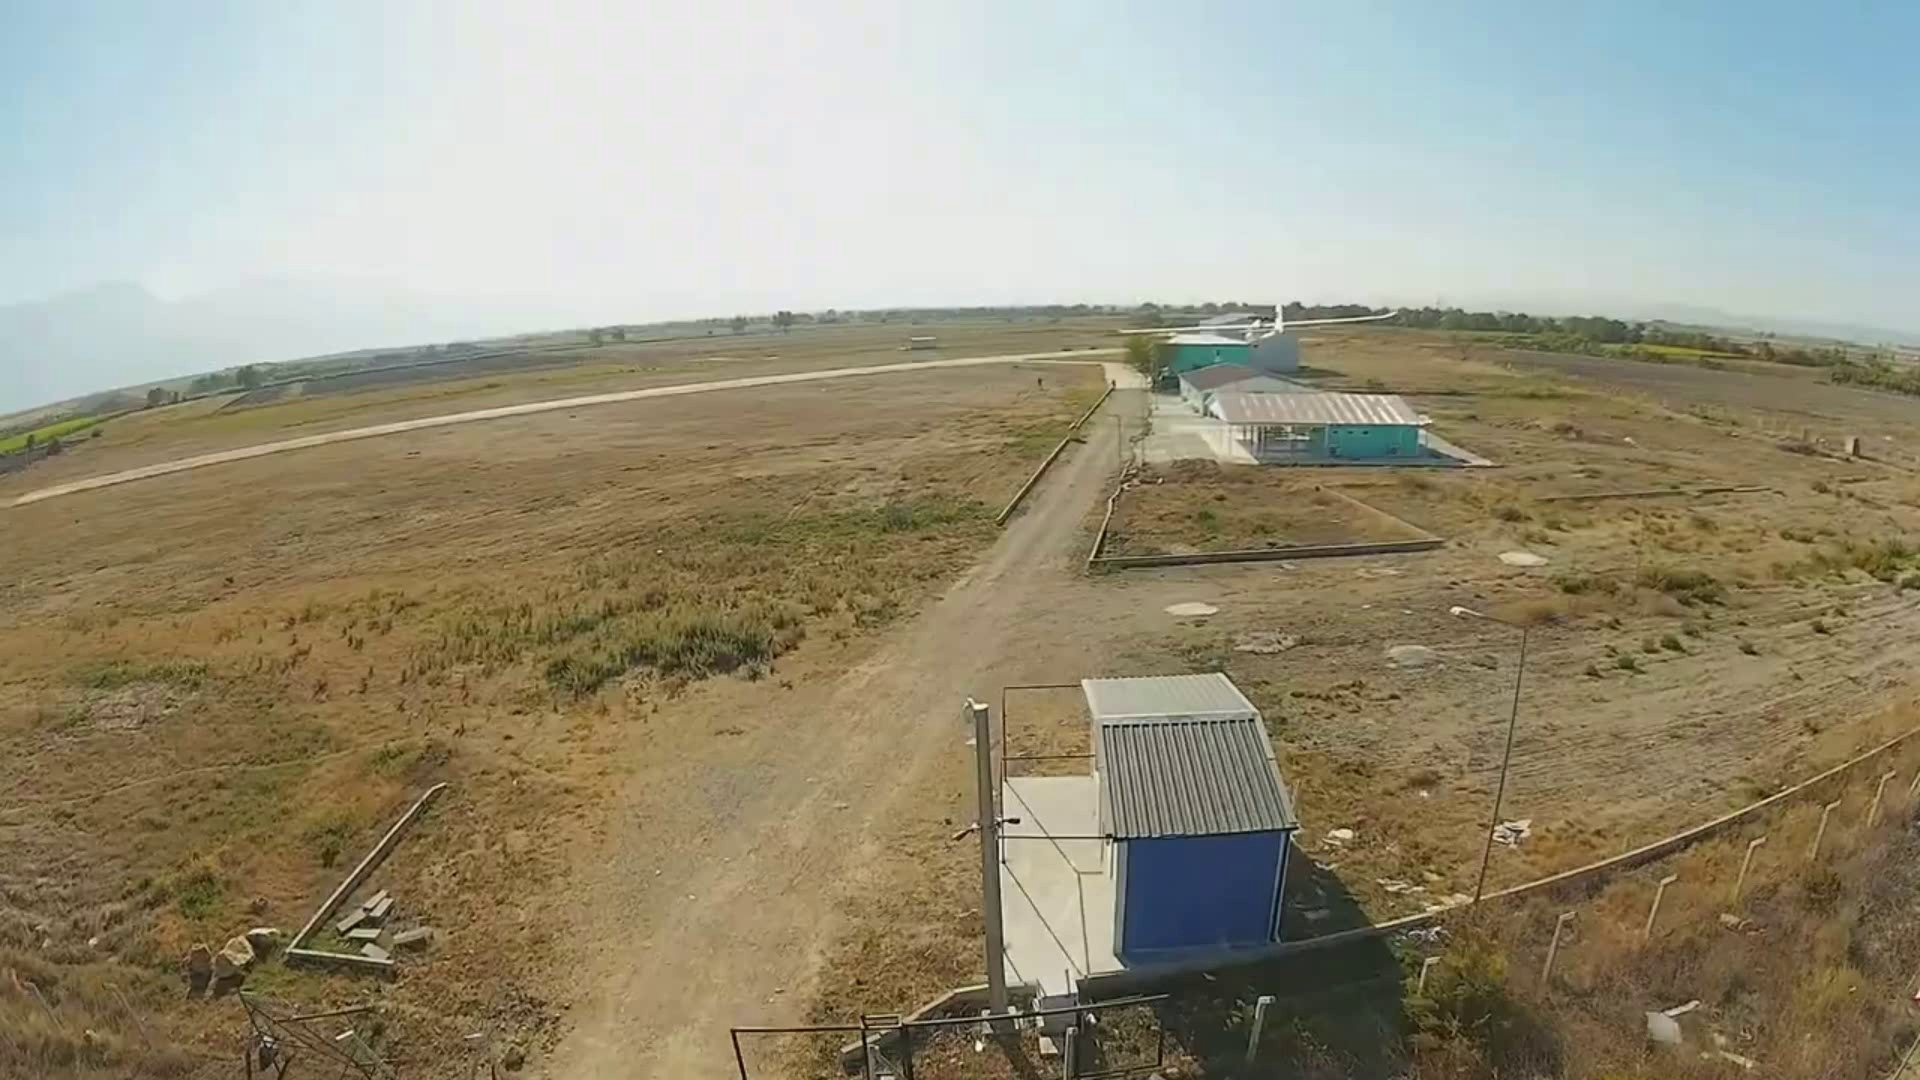airplane: (1162, 347, 1494, 469)
